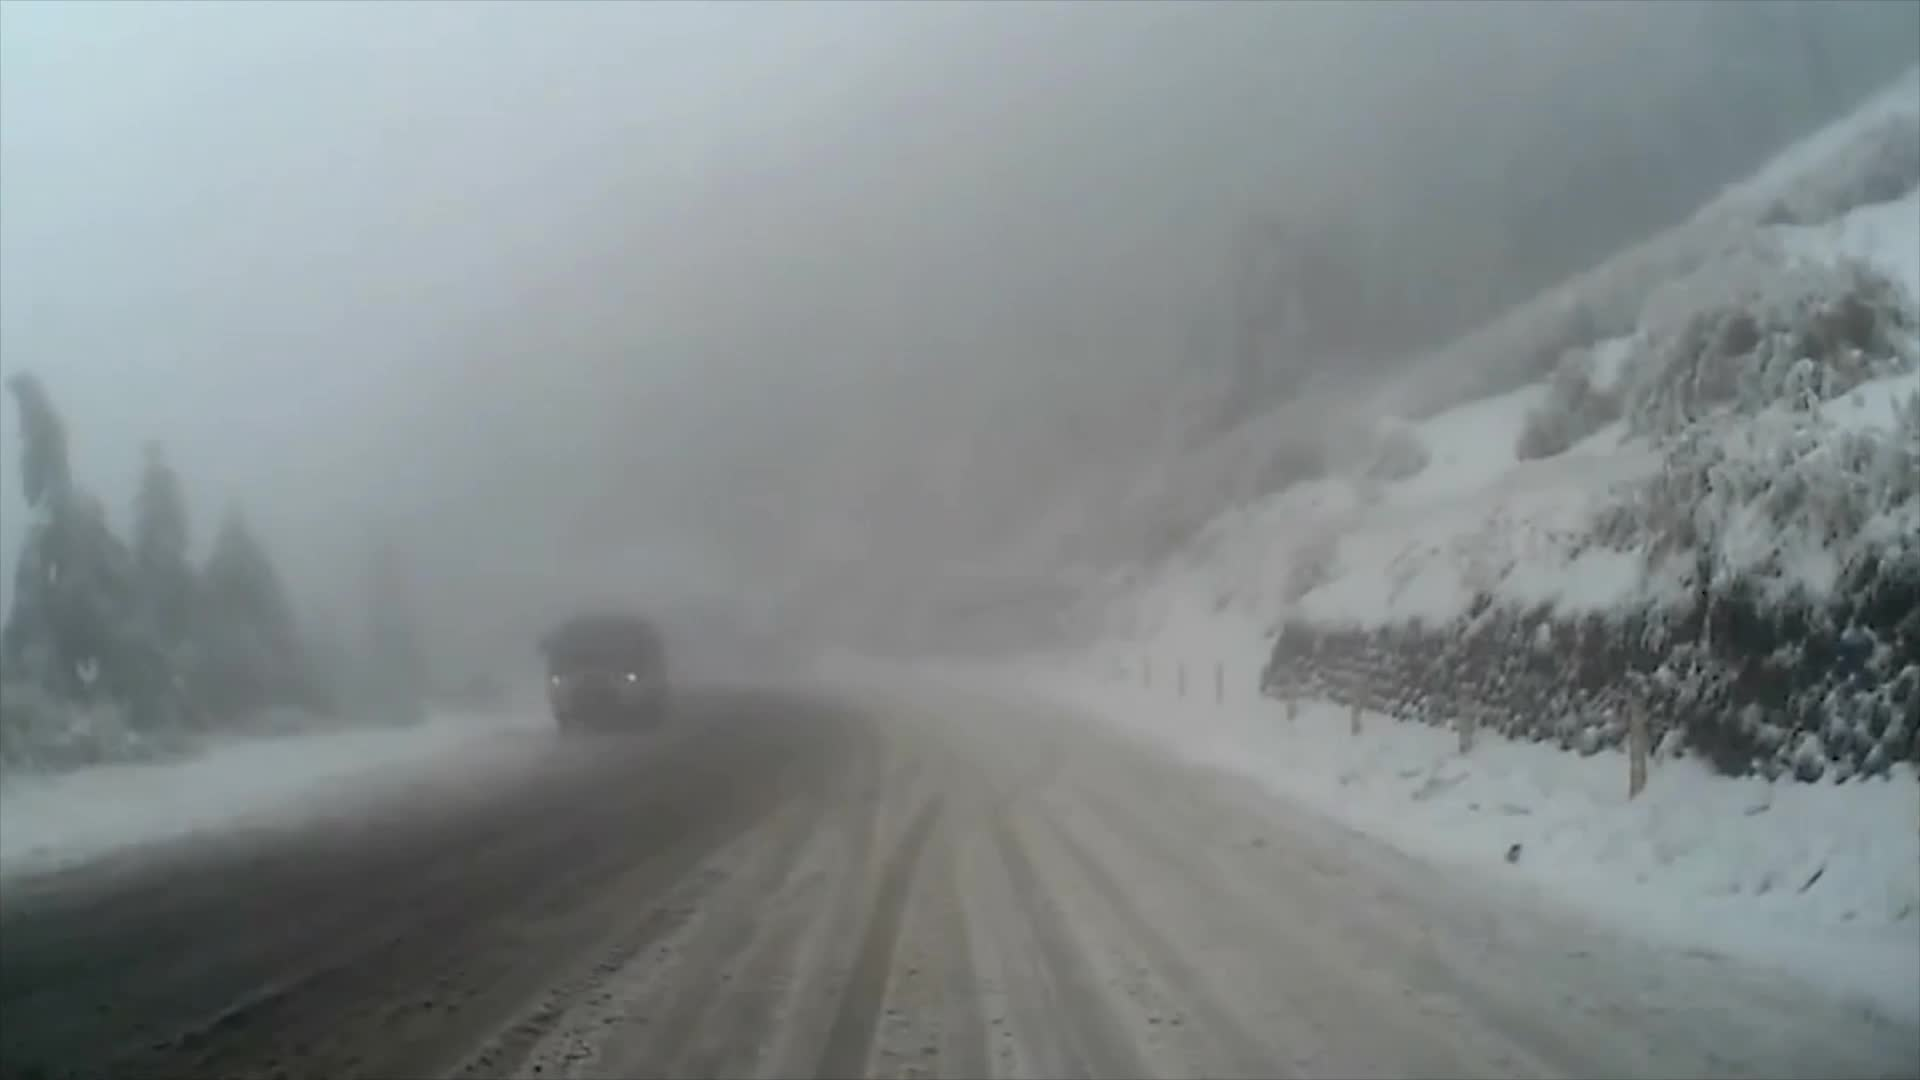vehicle: (541, 613, 674, 735)
